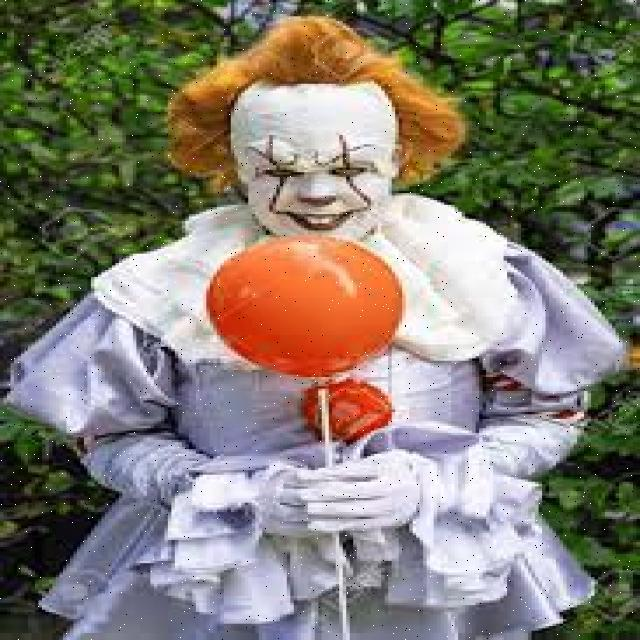red: (198, 231, 409, 378)
